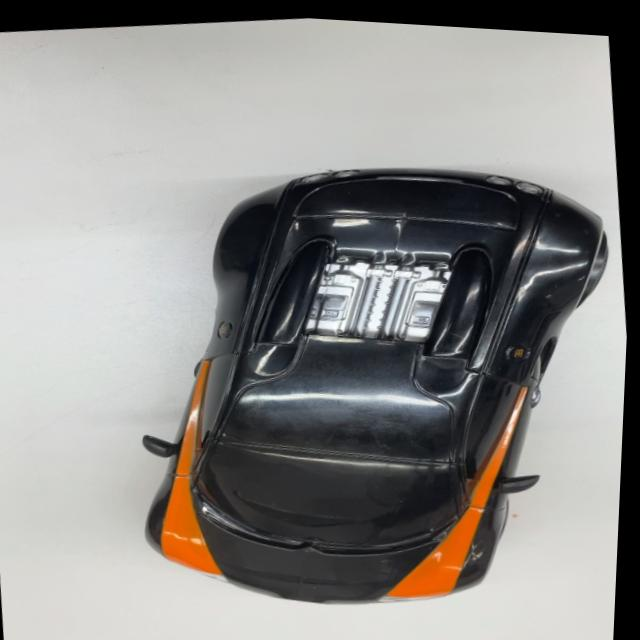vehicle_body: (88, 127, 635, 640)
